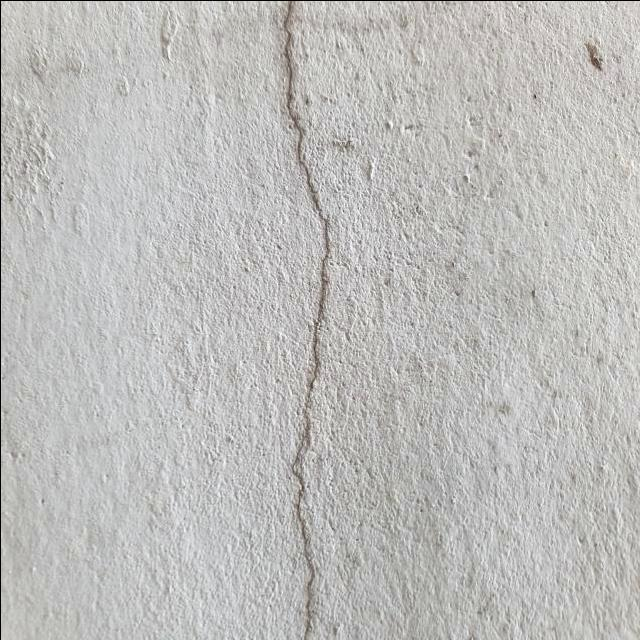SurfaceCrack: (235, 0, 375, 639)
